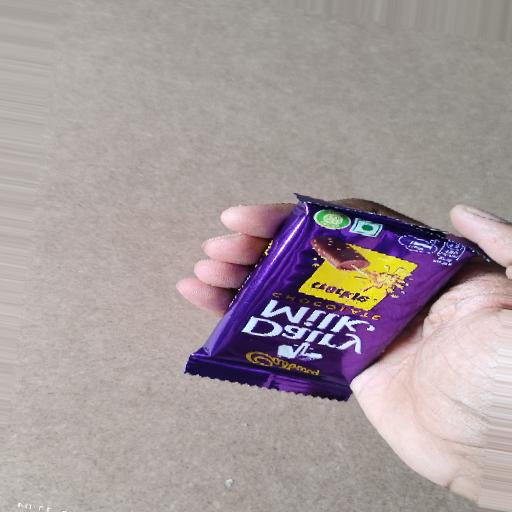Cadbury Dairy Milk Crackle: (164, 173, 499, 454)
